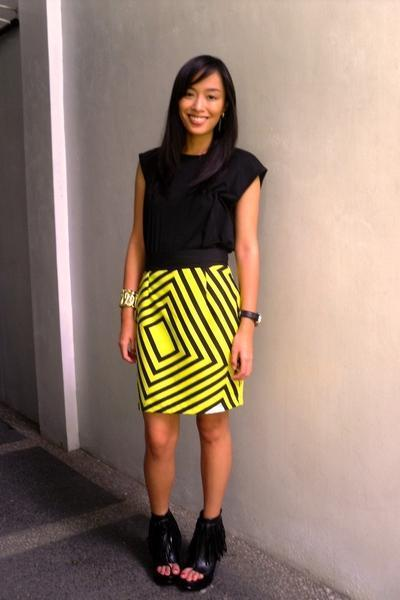shirt: (139, 143, 266, 275)
shoe: (157, 509, 226, 592)
skirt: (125, 265, 244, 428)
